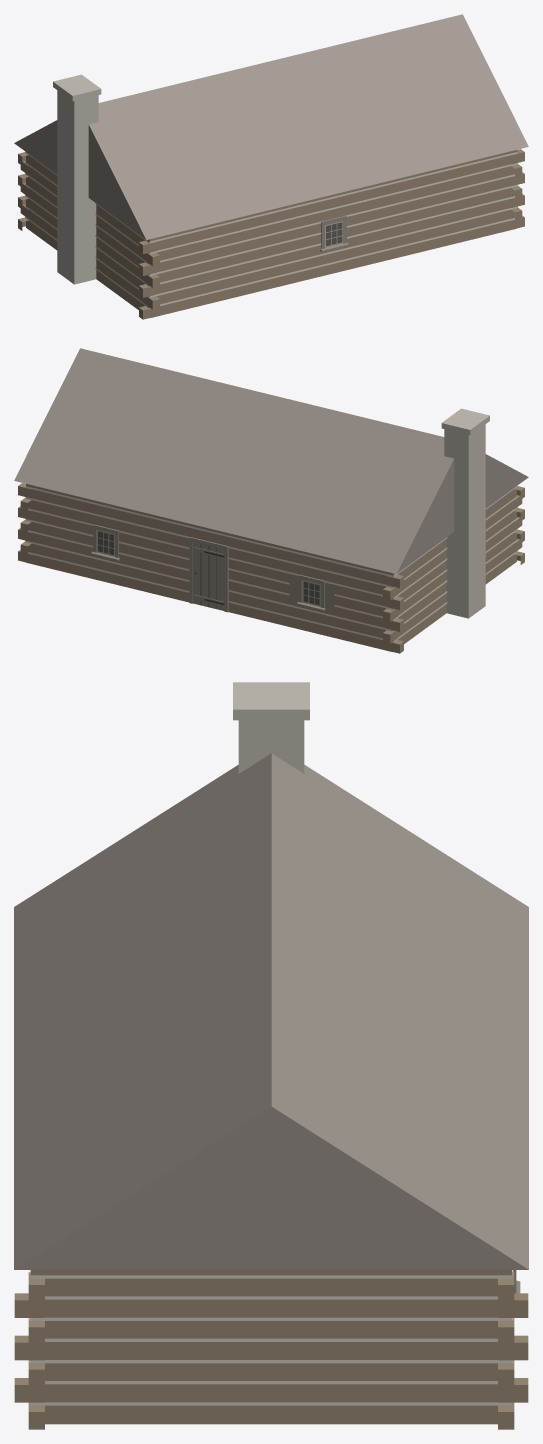
File: council_house__log_1834.glb
The picture shows the model from 3 angles, top to bottom: view 1: azimuth 30°, elevation 25°; view 2: azimuth 150°, elevation 25°; view 3: azimuth 270°, elevation 25°; orthographic projection. The views are drawn at different scales.
Visible parts, largest first — view 1: council_house__log_1834; view 2: council_house__log_1834; view 3: council_house__log_1834.
Part boxes in pixels (x1=…): council_house__log_1834: x1=14, y1=14, x2=528, y2=319; council_house__log_1834: x1=14, y1=348, x2=528, y2=653; council_house__log_1834: x1=14, y1=682, x2=528, y2=1429.
Bounding box in the file's own units: 13.07 × 5.95 × 7.5.
